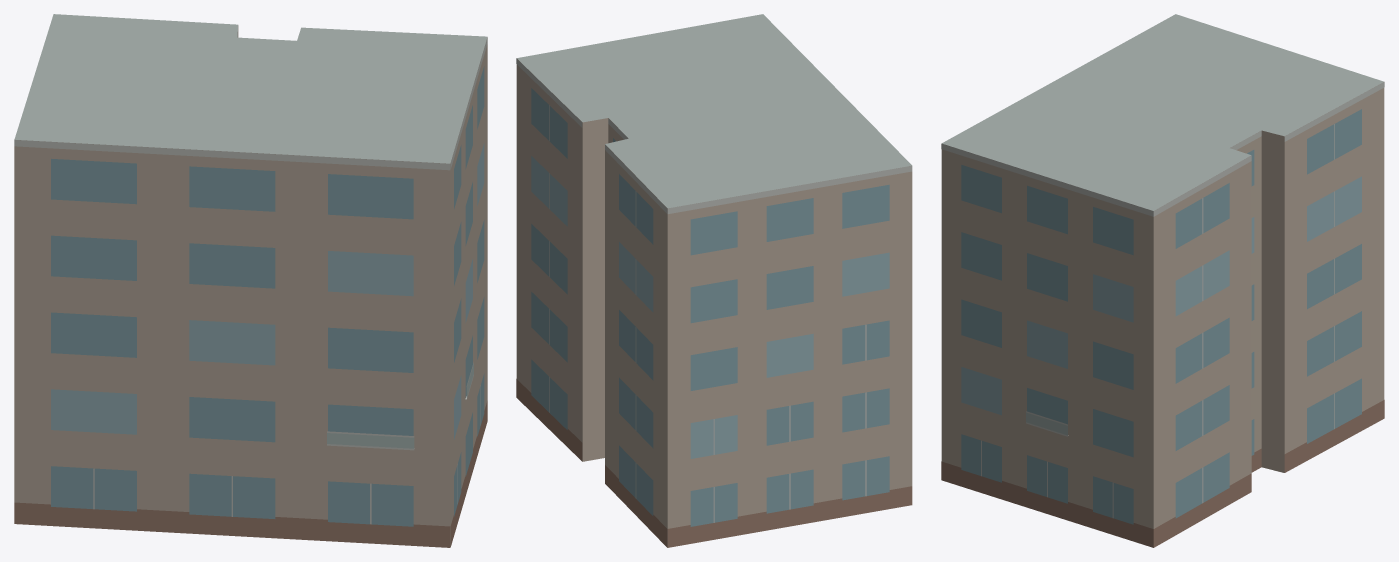
File: survey-upis-32612070.glb
3 renders of one model, left to right at view 1: azimuth 30°, elevation 25°; view 2: azimuth 150°, elevation 25°; view 3: azimuth 270°, elevation 25°, orthographic. The views are drawn at different scales.
Parts seen in each view (by area): view 1: survey-upis-32612070.tmp; view 2: survey-upis-32612070.tmp; view 3: survey-upis-32612070.tmp.
Part boxes in pixels (box(x1,y1,x2,y2)): survey-upis-32612070.tmp: box(14, 14, 487, 547); survey-upis-32612070.tmp: box(516, 14, 912, 547); survey-upis-32612070.tmp: box(941, 14, 1384, 547).
Bounding box in the file's own units: 17.83 × 14.2 × 16.93.
